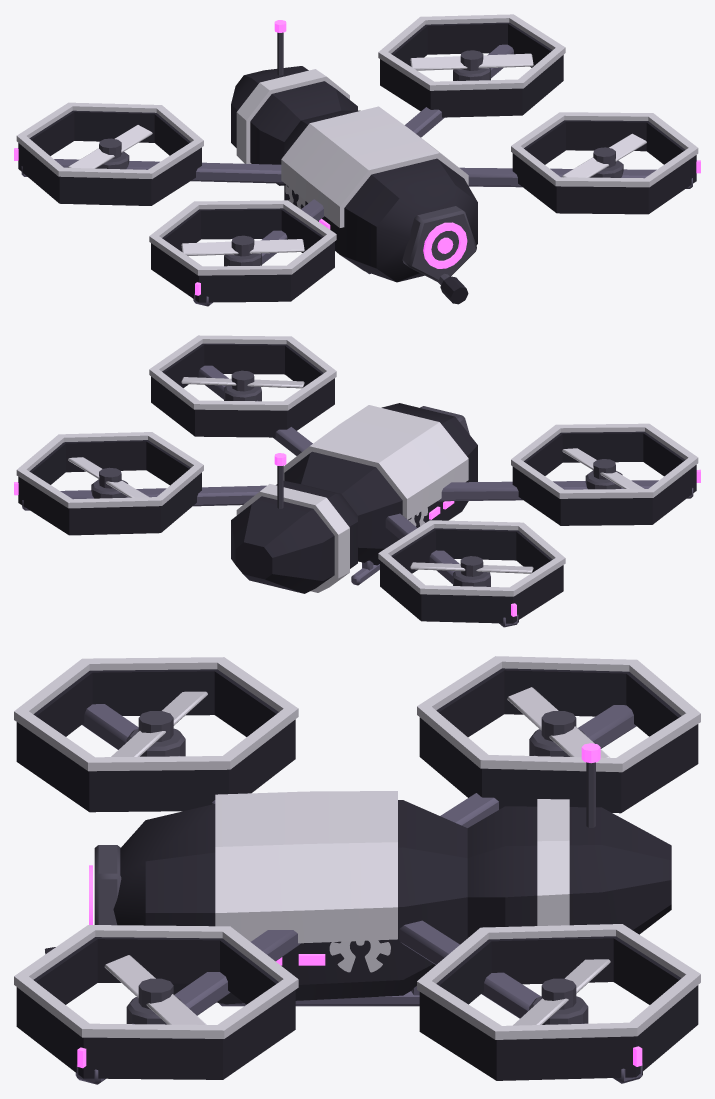
The model's file is drone_swarm.glb.
3 views of the same model, one above another, from view 1: azimuth 30°, elevation 25°; view 2: azimuth 150°, elevation 25°; view 3: azimuth 270°, elevation 25° (orthographic). The views are drawn at different scales.
Parts seen in each view (by area): view 1: drone_swarm_shell, drone_swarm_ceramic, drone_swarm_polymer, drone_swarm_metal, rotor_BL, rotor_FR, drone_swarm_glow, rotor_FL, rotor_BR; view 2: drone_swarm_shell, drone_swarm_ceramic, drone_swarm_polymer, drone_swarm_metal, rotor_BR, rotor_FL, rotor_BL, rotor_FR, drone_swarm_glow; view 3: drone_swarm_shell, drone_swarm_ceramic, drone_swarm_polymer, drone_swarm_metal, rotor_FL, rotor_BR, rotor_BL, rotor_FR, drone_swarm_glow, drone_swarm_decals.
Boxes of the visible parts, x1,y1,x2,y2 form: drone_swarm_shell: [18, 22, 696, 304]; drone_swarm_ceramic: [16, 14, 698, 275]; drone_swarm_polymer: [21, 44, 692, 306]; drone_swarm_metal: [96, 32, 623, 284]; rotor_BL: [410, 50, 533, 70]; rotor_FR: [181, 235, 304, 256]; drone_swarm_glow: [14, 20, 700, 295]; rotor_FL: [562, 133, 646, 177]; rotor_BR: [68, 125, 152, 168]; drone_swarm_shell: [18, 343, 696, 623]; drone_swarm_ceramic: [16, 335, 698, 596]; drone_swarm_polymer: [22, 365, 693, 627]; drone_swarm_metal: [91, 385, 622, 586]; rotor_BR: [410, 556, 533, 576]; rotor_FL: [181, 370, 304, 391]; rotor_BL: [68, 457, 148, 497]; rotor_FR: [562, 448, 644, 488]; drone_swarm_glow: [14, 453, 700, 616]; drone_swarm_shell: [16, 668, 698, 1080]; drone_swarm_ceramic: [14, 656, 700, 1039]; drone_swarm_polymer: [75, 704, 642, 1084]; drone_swarm_metal: [94, 728, 595, 1024]; rotor_FL: [104, 955, 206, 1024]; rotor_BR: [507, 687, 610, 757]; rotor_BL: [513, 959, 610, 1025]; rotor_FR: [111, 691, 207, 756]; drone_swarm_glow: [77, 743, 642, 1068]; drone_swarm_decals: [329, 940, 390, 972].
Size of the model in its own units: 0.3308 by 0.0965 by 0.2559.
